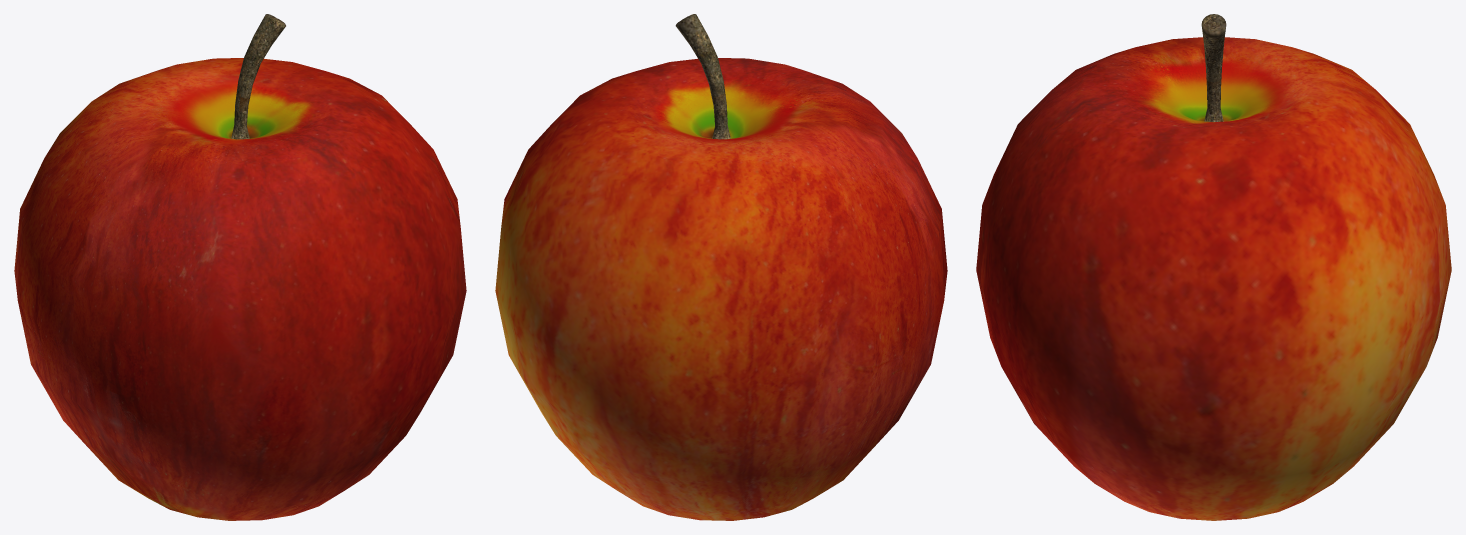
The model's file is apple.FBX.
3 renders of one model, left to right at view 1: azimuth 30°, elevation 25°; view 2: azimuth 150°, elevation 25°; view 3: azimuth 270°, elevation 25°, orthographic. The views are drawn at different scales.
Visible parts, largest first — view 1: Sphere001; view 2: Sphere001; view 3: Sphere001.
Part boxes in pixels (left/top/right/bottom): Sphere001: left=14, top=14, right=466, bottom=520; Sphere001: left=495, top=14, right=947, bottom=520; Sphere001: left=976, top=14, right=1451, bottom=520.
Size of the model in its own units: 35.39 by 40.32 by 35.43.
1 material, 1 textured.
